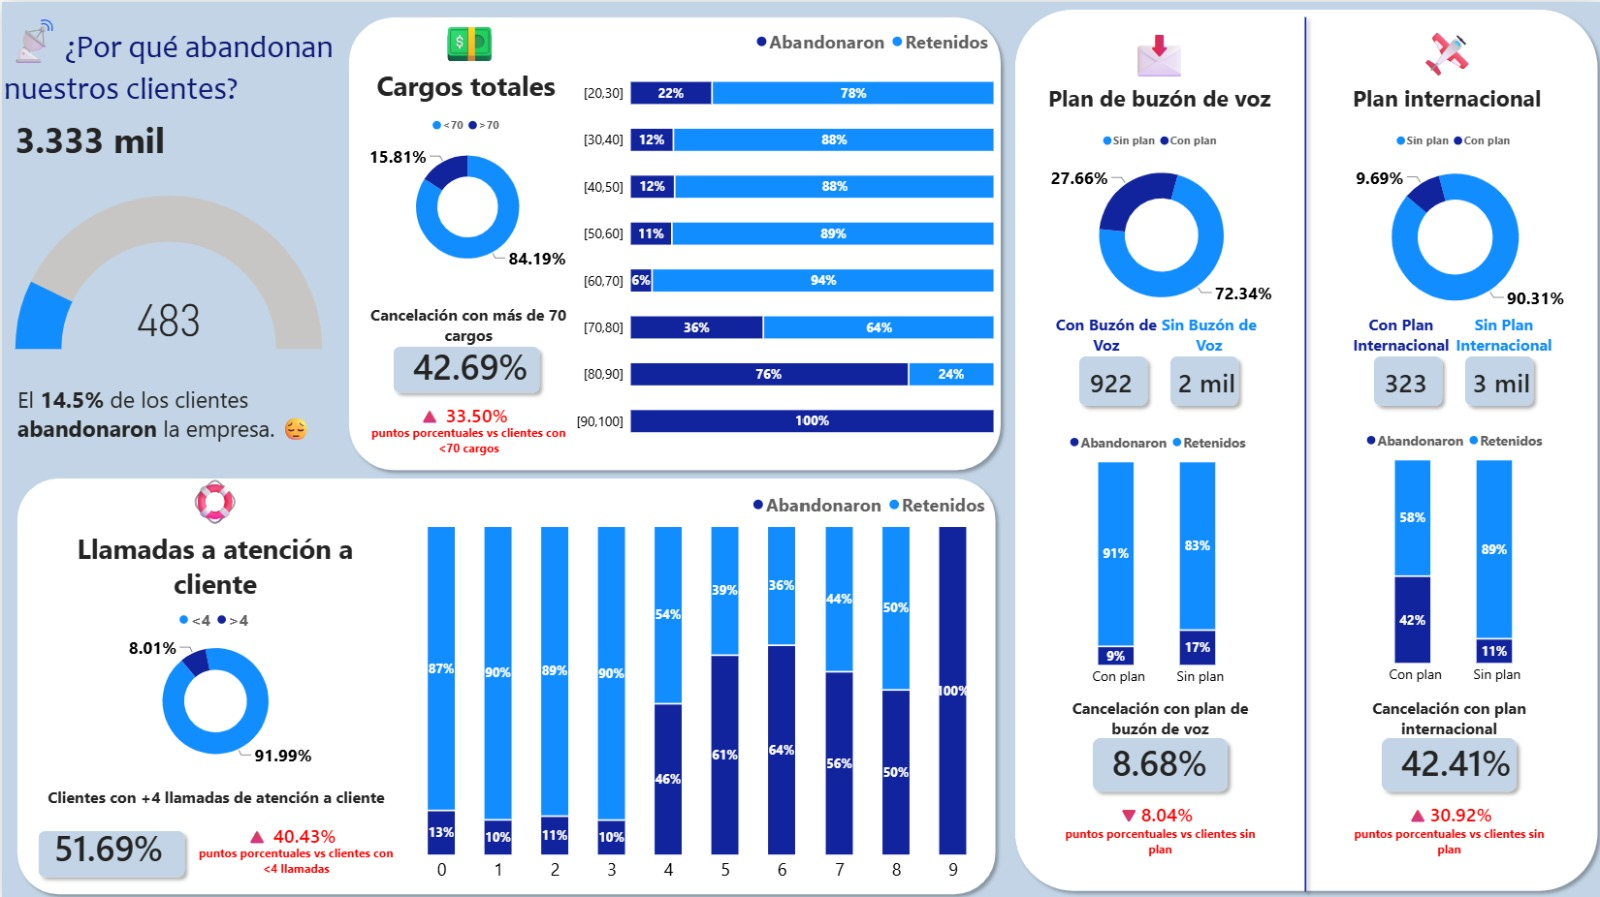

Layout of this report page (visuals, bound fields, positions):
{"tool":"powerbi","page":{"name":"Análisis de abandono","canvas":[1920,1080],"ordinal":0},"visuals":[{"type":"shape","box":[1204,0,716.6,1076],"z":0},{"type":"shape","box":[1390,417.5,100,77.5],"z":0,"group":"g6"},{"type":"shape","box":[1645.4,875,180,82.5],"z":0,"group":"g1"},{"type":"cardVisual","fields":{"Data":["Clientes.Clientes Totales"]},"box":[0,95,227.5,137.5],"z":1000},{"type":"shape","box":[1280,417.5,100,77.5],"z":1000,"group":"g6"},{"type":"cardVisual","fields":{"Data":["Clientes.Churn rate plan internacional"]},"box":[1660.4,850,180,126],"z":1000,"group":"g1"},{"type":"cardVisual","fields":{"Data":["Clientes.Clientes Totales"],"Rows":["Clientes.Voice mail plan texto"]},"box":[1267.5,402.5,252.5,85],"z":2000,"group":"g6"},{"type":"textbox","box":[17.5,457.5,410,107.5],"z":2000},{"type":"shape","box":[1297.9,875,180,82.5],"z":2000,"group":"g3"},{"type":"cardVisual","fields":{"Data":["Clientes.Diferencia churn rate internacional"]},"box":[1696.8,942.1,107.5,65],"z":2000,"group":"g1"},{"type":"gauge","fields":{"MaxValue":["churn-bigml-80 (2).Clientes Totales"],"Y":["Clientes.Clientes que abandonaron"]},"box":[0,192.5,400,265],"z":3000},{"type":"textbox","box":[1257.5,375,130,62.5],"z":3000,"group":"g6"},{"type":"textbox","box":[1610.9,835,250,58],"z":3000,"group":"g1"},{"type":"donutChart","fields":{"Category":["Clientes.Plan internacional texto"],"Y":["Clientes.Clientes Totales"]},"box":[1562.5,137.5,357.5,262.5],"z":4000},{"type":"textbox","box":[1380,375,130,70],"z":4000,"group":"g6"},{"type":"cardVisual","fields":{"Data":["Clientes.Churn rate plan de mensaje de voz"]},"box":[1312.9,850,180,126],"z":4000,"group":"g3"},{"type":"textbox","box":[1674.3,954,43.8,67.5],"z":4000,"group":"g1"},{"type":"shape","box":[10,562.5,1190,517.5],"z":5000},{"type":"textbox","box":[1610,987.9,250,54.3],"z":5000,"group":"g1"},{"type":"textbox","box":[2.5,10,397.5,170],"z":6000},{"type":"cardVisual","fields":{"Data":["Clientes.Diferencia churn rate cargos"]},"box":[517.5,464.3,120,60],"z":6000,"group":"g8"},{"type":"cardVisual","fields":{"Data":["Clientes.Diferencia churn rate buzon"]},"box":[1349.3,942.1,107.5,65],"z":6000,"group":"g3"},{"type":"cardVisual","fields":{"Data":["Clientes.Diferencia churn rate atencion a cliente"]},"box":[310,970,120,60],"z":6000,"group":"g4"},{"type":"donutChart","fields":{"Category":["Clientes.Voice mail plan texto"],"Y":["Clientes.Clientes Totales"]},"box":[1210,137.5,360,257.5],"z":7000},{"type":"textbox","box":[1263.4,835,250,58],"z":7000,"group":"g3"},{"type":"shape","box":[1506.7,10,110,1067.5],"z":8000},{"type":"textbox","box":[490,474.3,55,62.5],"z":9000,"group":"g8"},{"type":"hundredPercentStackedColumnChart","fields":{"Category":["Clientes.customer_service_calls"],"Series":["Clientes.Churn texto"],"Y":["Clientes.Clientes Totales"]},"box":[467.5,570,732.5,507.5],"z":9000},{"type":"textbox","box":[1326.8,954,43.8,67.5],"z":9000,"group":"g3"},{"type":"textbox","box":[282.5,980,55,62.5],"z":9000,"group":"g4"},{"type":"textbox","box":[1242.5,25,290,112.5],"z":10000},{"type":"textbox","box":[1595,25,272.5,112.5],"z":11000},{"type":"textbox","box":[440,506.6,240,50.2],"z":11000,"group":"g8"},{"type":"textbox","box":[1262.5,987.9,250,54.3],"z":11000,"group":"g3"},{"type":"textbox","box":[232.5,1012.3,240,50.2],"z":11000,"group":"g4"},{"type":"textbox","box":[42.5,942.5,425,137.5],"z":12000},{"type":"shape","box":[461.4,405.1,193.1,73.6],"z":13000,"group":"g7"},{"type":"textbox","box":[42.5,562.5,427.5,175],"z":13000},{"type":"shape","box":[35,986.1,193.1,73.6],"z":13000,"group":"g2"},{"type":"shape","box":[407.5,10,798.5,561.9],"z":14000},{"type":"textbox","box":[422.5,7.5,275,133.8],"z":15000},{"type":"cardVisual","fields":{"Data":["Clientes.Churn rate cargos >70"]},"box":[477.6,390,180,92.5],"z":15000,"group":"g7"},{"type":"shape","box":[1745,417.5,100,77.5],"z":15000,"group":"g5"},{"type":"cardVisual","fields":{"Data":["Clientes.Churn rate llamadas >3"]},"box":[46.5,970,169.1,90.1],"z":15000,"group":"g2"},{"type":"group","id":"g1","title":"Grupo 4","box":[1610,835,250,207.5],"z":16000},{"type":"group","id":"g2","title":"Grupo 5","box":[35,970,192.5,90],"z":17000},{"type":"group","id":"g3","title":"Grupo 7","box":[1262.5,835,250,207.5],"z":18000},{"type":"shape","box":[1635,417.5,100,77.5],"z":18500,"group":"g5"},{"type":"cardVisual","fields":{"Data":["Clientes.Clientes Totales"],"Rows":["Clientes.International plan texto"]},"box":[1622.5,402.5,252.5,85],"z":19000,"group":"g5"},{"type":"group","id":"g4","title":"Grupo 6","box":[232.5,970,240,92.5],"z":19000},{"type":"hundredPercentStackedColumnChart","fields":{"Category":["Clientes.Voice mail plan texto"],"Series":["Clientes.Churn texto"],"Y":["Clientes.Clientes Totales"]},"box":[1210,497.5,355,345],"z":20000},{"type":"hundredPercentStackedColumnChart","fields":{"Category":["Clientes.International plan texto"],"Series":["Clientes.Churn texto"],"Y":["Clientes.Clientes Totales"]},"box":[1565,495,355,345],"z":21000},{"type":"group","id":"g5","title":"Grupo 1","box":[1612.5,375,262.5,120],"z":22000},{"type":"group","id":"g6","title":"Grupo 1","box":[1257.5,375,262.5,120],"z":23000},{"type":"textbox","box":[1612.5,375,130,62.5],"z":23000,"group":"g5"},{"type":"hundredPercentStackedBarChart","fields":{"Category":["Clientes.total_charge_cat"],"Series":["Clientes.Churn texto"],"Y":["Clientes.Clientes Totales"]},"box":[666.2,15,538.8,542.5],"z":24000},{"type":"group","id":"g7","title":"Grupo 5","box":[461.4,390,197.1,92.9],"z":25000},{"type":"group","id":"g8","title":"Grupo 6","box":[440,464.3,240,92.9],"z":26000},{"type":"textbox","box":[1735,375,130,70],"z":26001,"group":"g5"},{"type":"textbox","box":[440,362.9,240,55.7],"z":27000},{"type":"donutChart","fields":{"Category":["Clientes.total_charge_>70"],"Y":["Clientes.Clientes Totales"]},"box":[420,117.5,275,227.5],"z":28000},{"type":"donutChart","fields":{"Category":["Clientes.customer_service_calls_>4"],"Y":["Clientes.Clientes Totales"]},"box":[35,710,442.5,227.5],"z":29000}]}

Visuals, with their boxes in screenshot pixels (x1, y1, x2, y2), scaled from the page's 1920x1080 canvas onto the 1600x897 screenshot:
shape: {"left": 1003, "top": 0, "right": 1599, "bottom": 894}
shape: {"left": 1158, "top": 347, "right": 1242, "bottom": 411}
shape: {"left": 1371, "top": 727, "right": 1521, "bottom": 795}
cardVisual - Clientes.Clientes Totales: {"left": 0, "top": 79, "right": 190, "bottom": 193}
shape: {"left": 1067, "top": 347, "right": 1150, "bottom": 411}
cardVisual - Clientes.Churn rate plan internacional: {"left": 1384, "top": 706, "right": 1534, "bottom": 811}
cardVisual - Clientes.Clientes Totales x Clientes.Voice mail plan texto: {"left": 1056, "top": 334, "right": 1267, "bottom": 405}
textbox: {"left": 15, "top": 380, "right": 356, "bottom": 469}
shape: {"left": 1082, "top": 727, "right": 1232, "bottom": 795}
cardVisual - Clientes.Diferencia churn rate internacional: {"left": 1414, "top": 782, "right": 1504, "bottom": 836}
gauge - churn-bigml-80 (2).Clientes Totales x Clientes.Clientes que abandonaron: {"left": 0, "top": 160, "right": 333, "bottom": 380}
textbox: {"left": 1048, "top": 311, "right": 1156, "bottom": 363}
textbox: {"left": 1342, "top": 694, "right": 1551, "bottom": 742}
donutChart - Clientes.Plan internacional texto x Clientes.Clientes Totales: {"left": 1302, "top": 114, "right": 1599, "bottom": 332}
textbox: {"left": 1150, "top": 311, "right": 1258, "bottom": 370}
cardVisual - Clientes.Churn rate plan de mensaje de voz: {"left": 1094, "top": 706, "right": 1244, "bottom": 811}
textbox: {"left": 1395, "top": 792, "right": 1432, "bottom": 848}
shape: {"left": 8, "top": 467, "right": 1000, "bottom": 896}
textbox: {"left": 1342, "top": 821, "right": 1550, "bottom": 866}
textbox: {"left": 2, "top": 8, "right": 333, "bottom": 150}
cardVisual - Clientes.Diferencia churn rate cargos: {"left": 431, "top": 386, "right": 531, "bottom": 435}
cardVisual - Clientes.Diferencia churn rate buzon: {"left": 1124, "top": 782, "right": 1214, "bottom": 836}
cardVisual - Clientes.Diferencia churn rate atencion a cliente: {"left": 258, "top": 806, "right": 358, "bottom": 855}
donutChart - Clientes.Voice mail plan texto x Clientes.Clientes Totales: {"left": 1008, "top": 114, "right": 1308, "bottom": 328}
textbox: {"left": 1053, "top": 694, "right": 1261, "bottom": 742}
shape: {"left": 1256, "top": 8, "right": 1347, "bottom": 895}
textbox: {"left": 408, "top": 394, "right": 454, "bottom": 446}
hundredPercentStackedColumnChart - Clientes.customer_service_calls x Clientes.Churn texto: {"left": 390, "top": 473, "right": 1000, "bottom": 895}
textbox: {"left": 1106, "top": 792, "right": 1142, "bottom": 848}
textbox: {"left": 235, "top": 814, "right": 281, "bottom": 866}
textbox: {"left": 1035, "top": 21, "right": 1277, "bottom": 114}
textbox: {"left": 1329, "top": 21, "right": 1556, "bottom": 114}
textbox: {"left": 367, "top": 421, "right": 567, "bottom": 462}
textbox: {"left": 1052, "top": 821, "right": 1260, "bottom": 866}
textbox: {"left": 194, "top": 841, "right": 394, "bottom": 882}
textbox: {"left": 35, "top": 783, "right": 390, "bottom": 896}
shape: {"left": 384, "top": 336, "right": 545, "bottom": 398}
textbox: {"left": 35, "top": 467, "right": 392, "bottom": 613}
shape: {"left": 29, "top": 819, "right": 190, "bottom": 880}
shape: {"left": 340, "top": 8, "right": 1005, "bottom": 475}
textbox: {"left": 352, "top": 6, "right": 581, "bottom": 117}
cardVisual - Clientes.Churn rate cargos >70: {"left": 398, "top": 324, "right": 548, "bottom": 401}
shape: {"left": 1454, "top": 347, "right": 1538, "bottom": 411}
cardVisual - Clientes.Churn rate llamadas >3: {"left": 39, "top": 806, "right": 180, "bottom": 880}
"Grupo 4" group: {"left": 1342, "top": 694, "right": 1550, "bottom": 866}
"Grupo 5" group: {"left": 29, "top": 806, "right": 190, "bottom": 880}
"Grupo 7" group: {"left": 1052, "top": 694, "right": 1260, "bottom": 866}
shape: {"left": 1362, "top": 347, "right": 1446, "bottom": 411}
cardVisual - Clientes.Clientes Totales x Clientes.International plan texto: {"left": 1352, "top": 334, "right": 1562, "bottom": 405}
"Grupo 6" group: {"left": 194, "top": 806, "right": 394, "bottom": 882}
hundredPercentStackedColumnChart - Clientes.Voice mail plan texto x Clientes.Churn texto: {"left": 1008, "top": 413, "right": 1304, "bottom": 700}
hundredPercentStackedColumnChart - Clientes.International plan texto x Clientes.Churn texto: {"left": 1304, "top": 411, "right": 1599, "bottom": 698}
"Grupo 1" group: {"left": 1344, "top": 311, "right": 1562, "bottom": 411}
"Grupo 1" group: {"left": 1048, "top": 311, "right": 1267, "bottom": 411}
textbox: {"left": 1344, "top": 311, "right": 1452, "bottom": 363}
hundredPercentStackedBarChart - Clientes.total_charge_cat x Clientes.Churn texto: {"left": 555, "top": 12, "right": 1004, "bottom": 463}
"Grupo 5" group: {"left": 384, "top": 324, "right": 549, "bottom": 401}
"Grupo 6" group: {"left": 367, "top": 386, "right": 567, "bottom": 463}
textbox: {"left": 1446, "top": 311, "right": 1554, "bottom": 370}
textbox: {"left": 367, "top": 301, "right": 567, "bottom": 348}
donutChart - Clientes.total_charge_>70 x Clientes.Clientes Totales: {"left": 350, "top": 98, "right": 579, "bottom": 287}
donutChart - Clientes.customer_service_calls_>4 x Clientes.Clientes Totales: {"left": 29, "top": 590, "right": 398, "bottom": 779}
